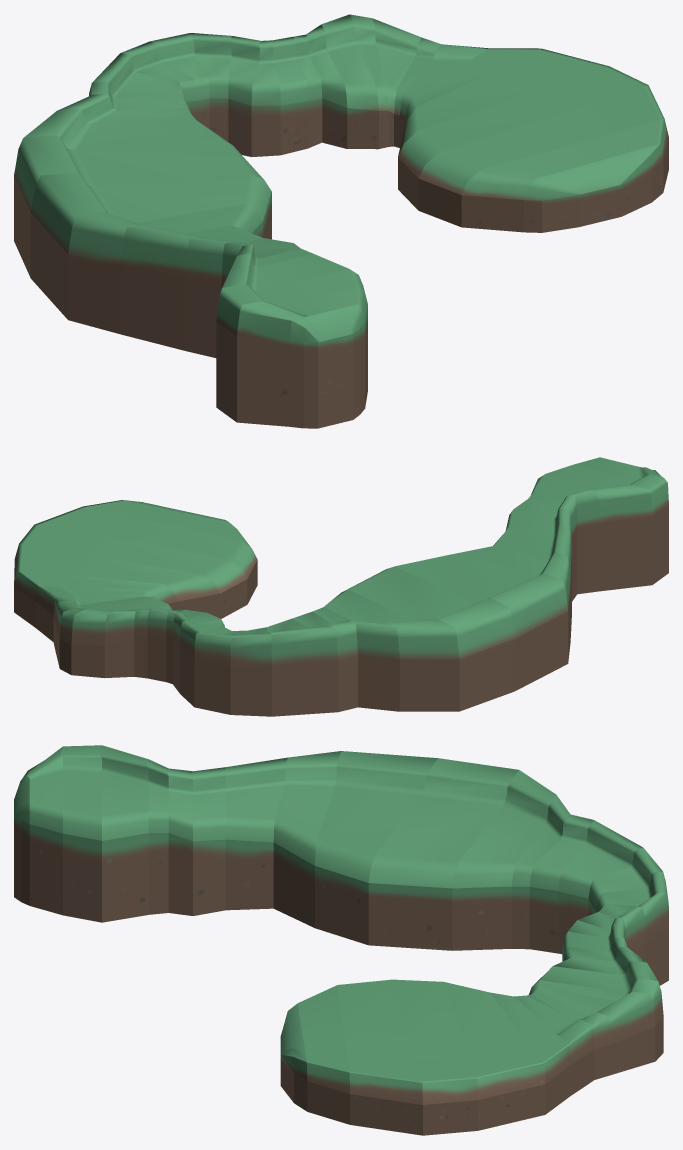
Rendered from path2.fbx.
3 renders of one model, top to bottom at view 1: azimuth 30°, elevation 25°; view 2: azimuth 150°, elevation 25°; view 3: azimuth 270°, elevation 25°, orthographic. The views are drawn at different scales.
Visible parts, largest first — view 1: pPlane1; view 2: pPlane1; view 3: pPlane1.
Part boxes in pixels (left/top/right/bottom): pPlane1: left=14, top=14, right=668, bottom=428; pPlane1: left=14, top=457, right=668, bottom=716; pPlane1: left=14, top=745, right=668, bottom=1135.
Bounding box in the file's own units: 11.35 × 2.13 × 10.8.
